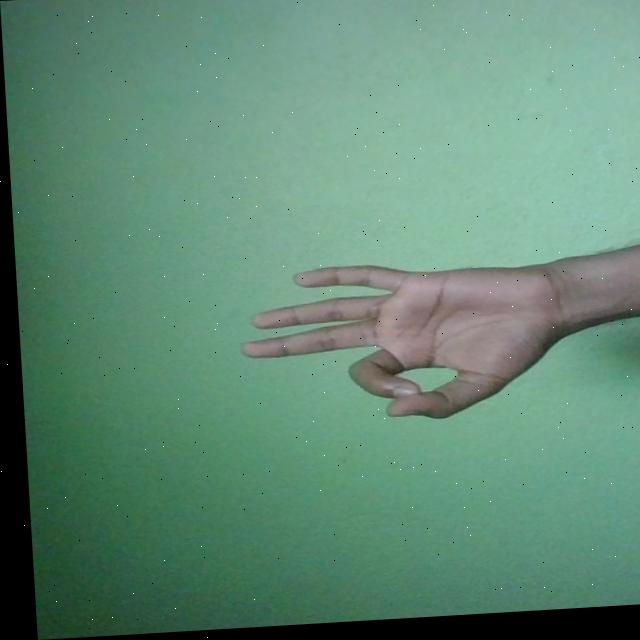Ok: (230, 259, 571, 432)
